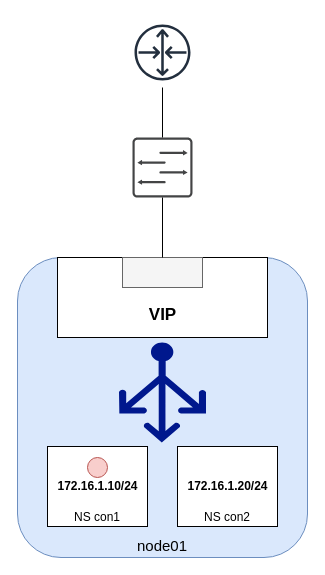
The diagram is 325 pixels wide and 575 high, and some of its shapes have lost their labels. Each missing label, with the box of its shape:
IPVS L4 LB: (118, 342, 206, 442)
phy: (122, 256, 202, 288)
